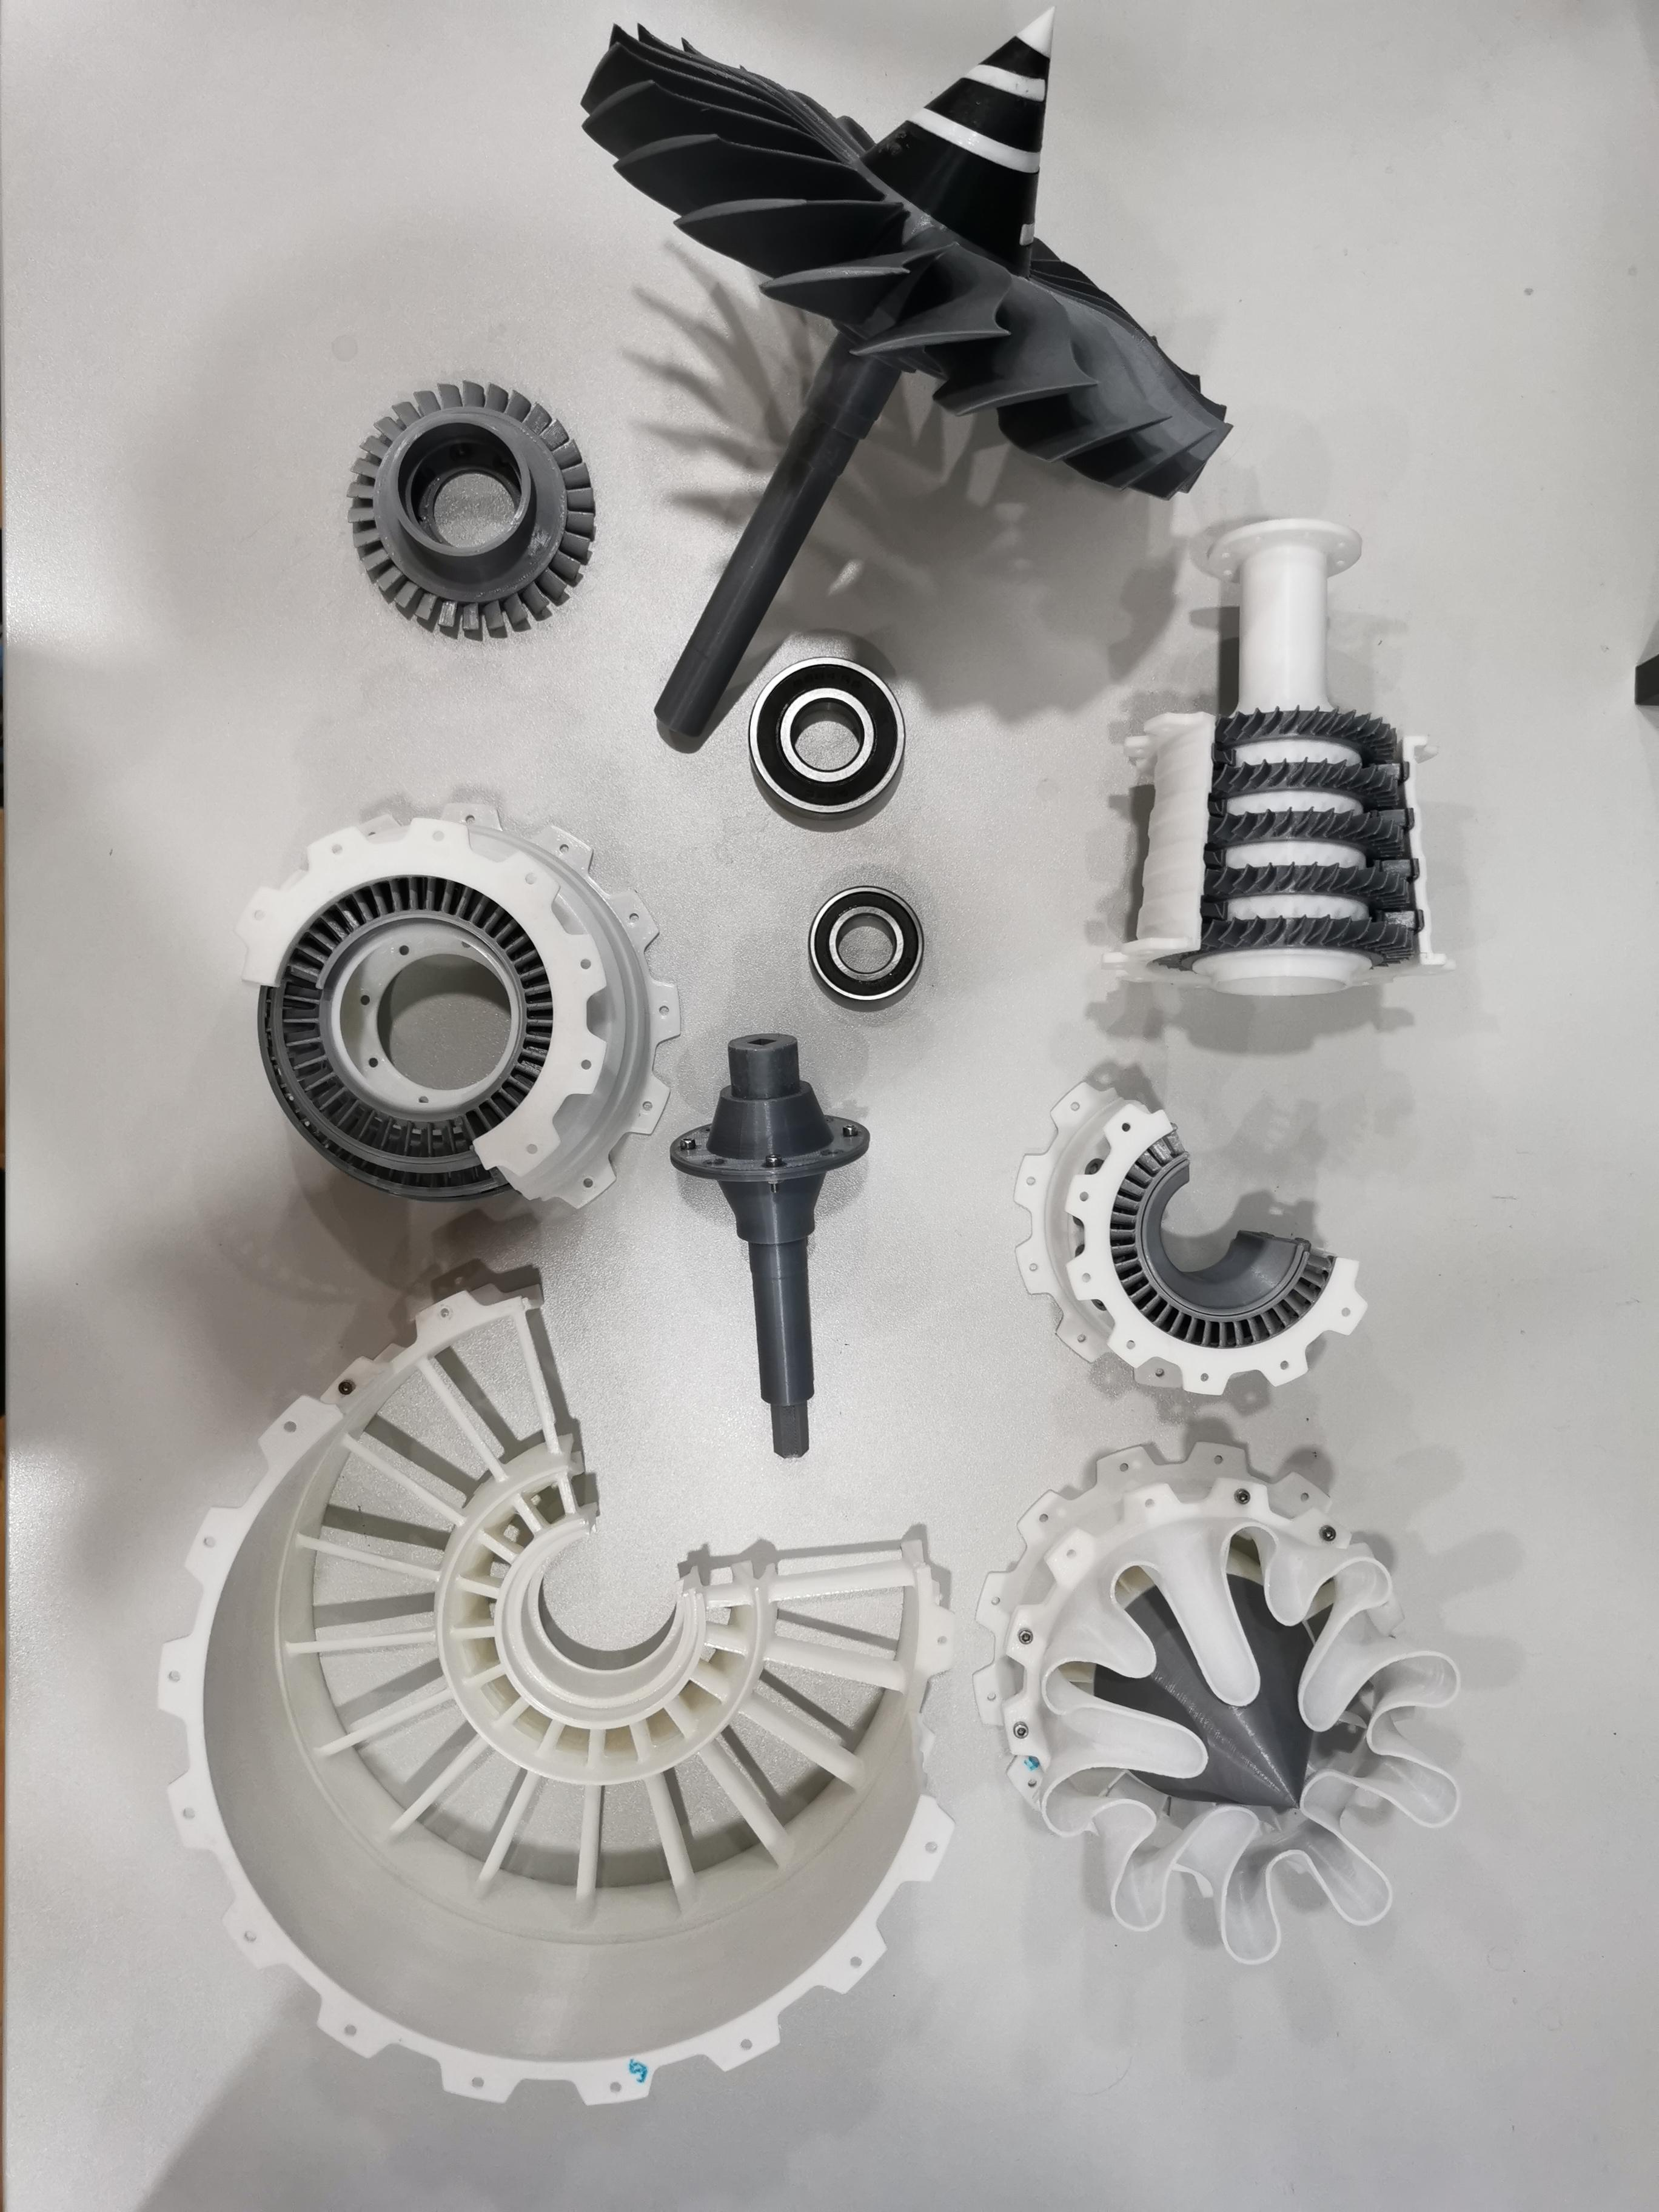Bearing-6003: (791, 873, 957, 1026)
Bearing-6204: (735, 648, 920, 833)
Combustion Section: (995, 1062, 1385, 1420)
Fan Casing and Support: (138, 1273, 971, 2134)
Fan and Low Pressure Shaft: (552, 2, 1243, 745)
HPT Section: (329, 361, 610, 660)
High Pressure Spool: (1087, 496, 1466, 1014)
LPT Section: (221, 784, 685, 1240)
Low Pressure Spool: (664, 1021, 889, 1479)
Nozzle Section: (971, 1433, 1471, 1977)
